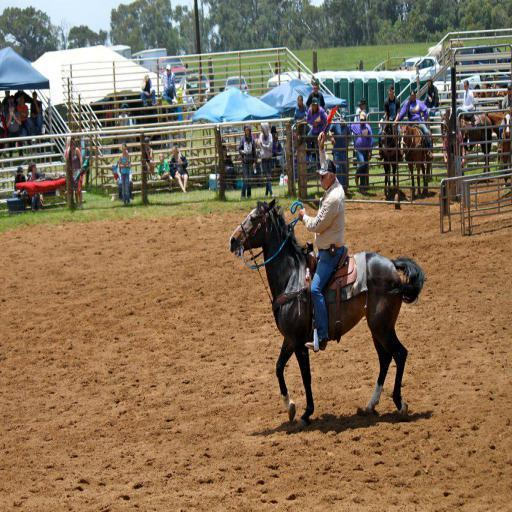horse: (228, 197, 424, 424), (438, 112, 494, 178), (398, 122, 433, 196), (466, 112, 492, 180), (377, 119, 402, 188), (438, 112, 470, 150), (498, 106, 512, 188), (483, 108, 507, 148)
